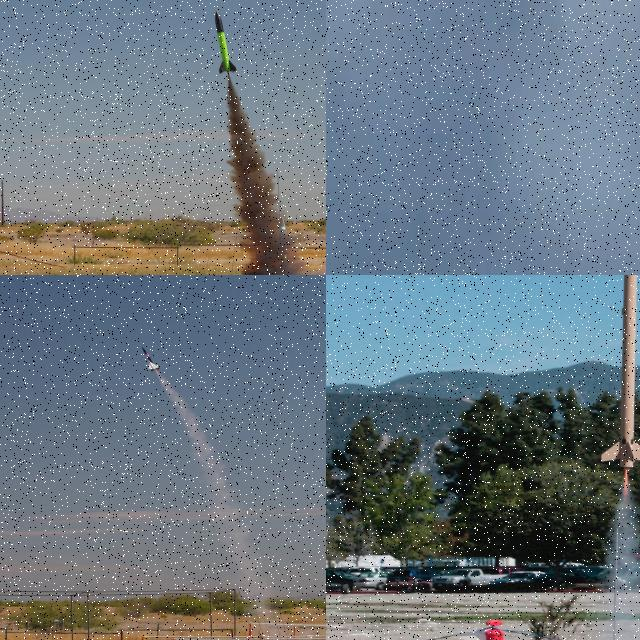Rocket: (599, 275, 640, 471), (215, 10, 237, 74), (276, 217, 292, 272), (142, 347, 160, 372), (257, 630, 276, 640)
